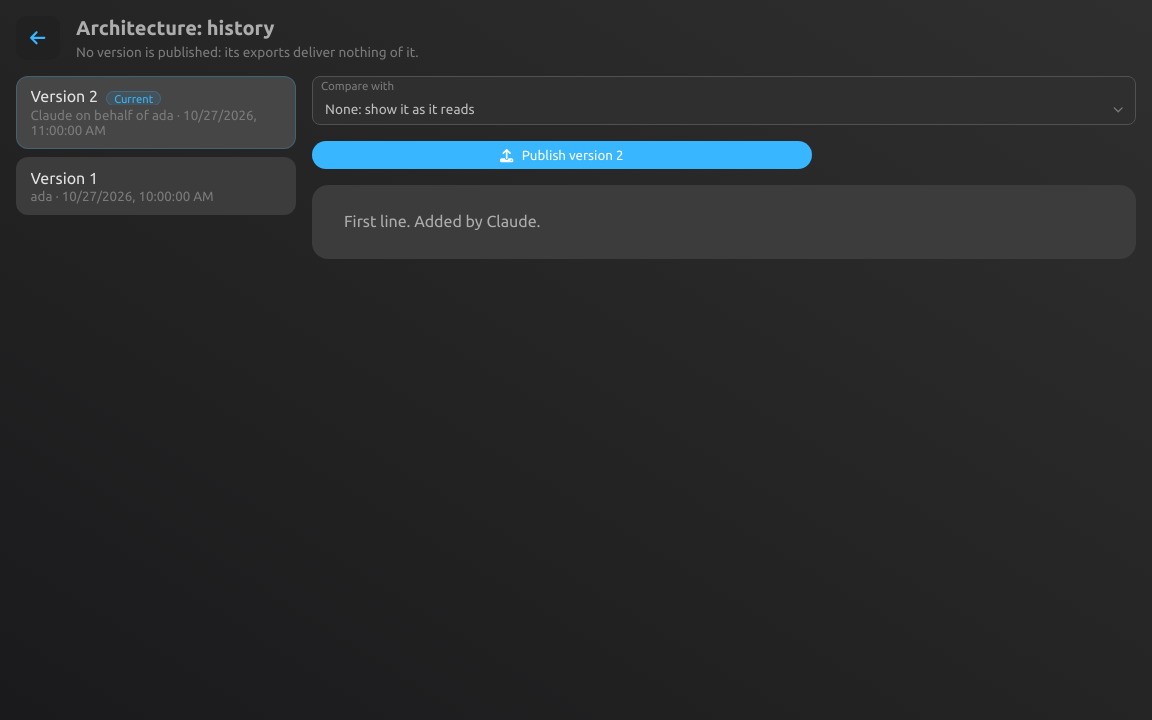
Test: DocumentHistory › shows what changed from another version
The image size is (1152, 720).
Check: the element with test id "markdown-view" is shown, box x1=344 y1=212 x2=541 y2=230
Click the button "None: show it as it reads".
click(400, 109)  # box x1=313 y1=94 x2=1135 y2=124
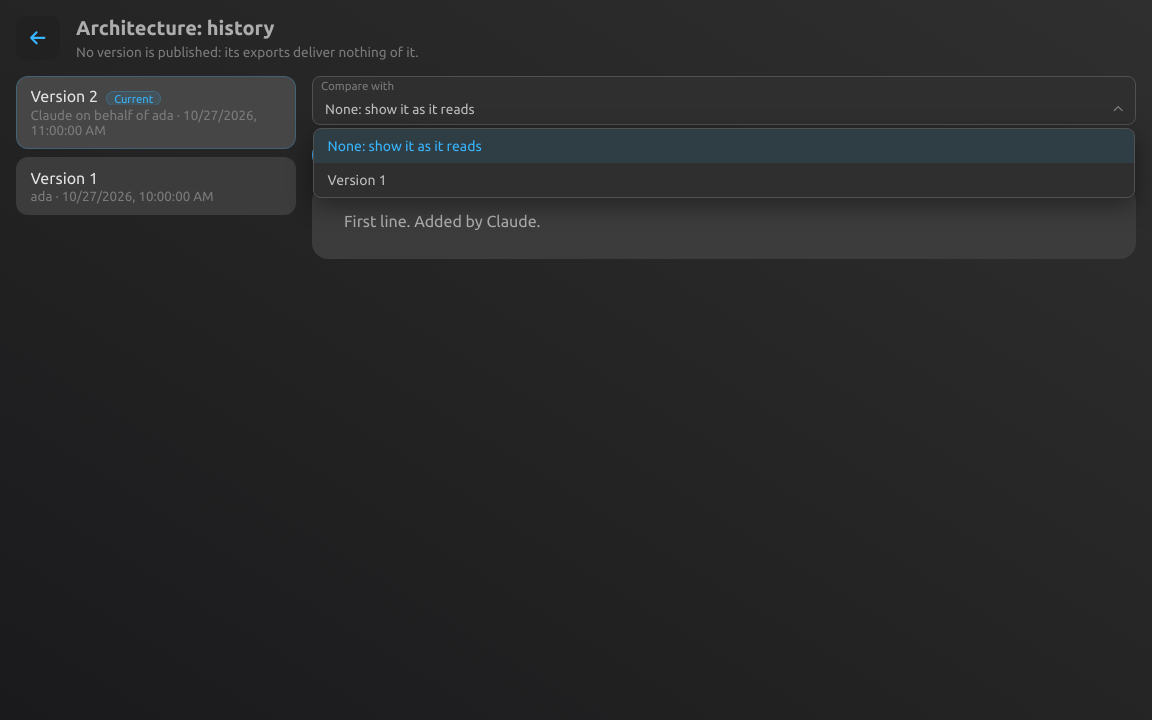
Press the mouse on the list item "Version 1" at (357, 180), box x1=328 y1=172 x2=387 y2=188
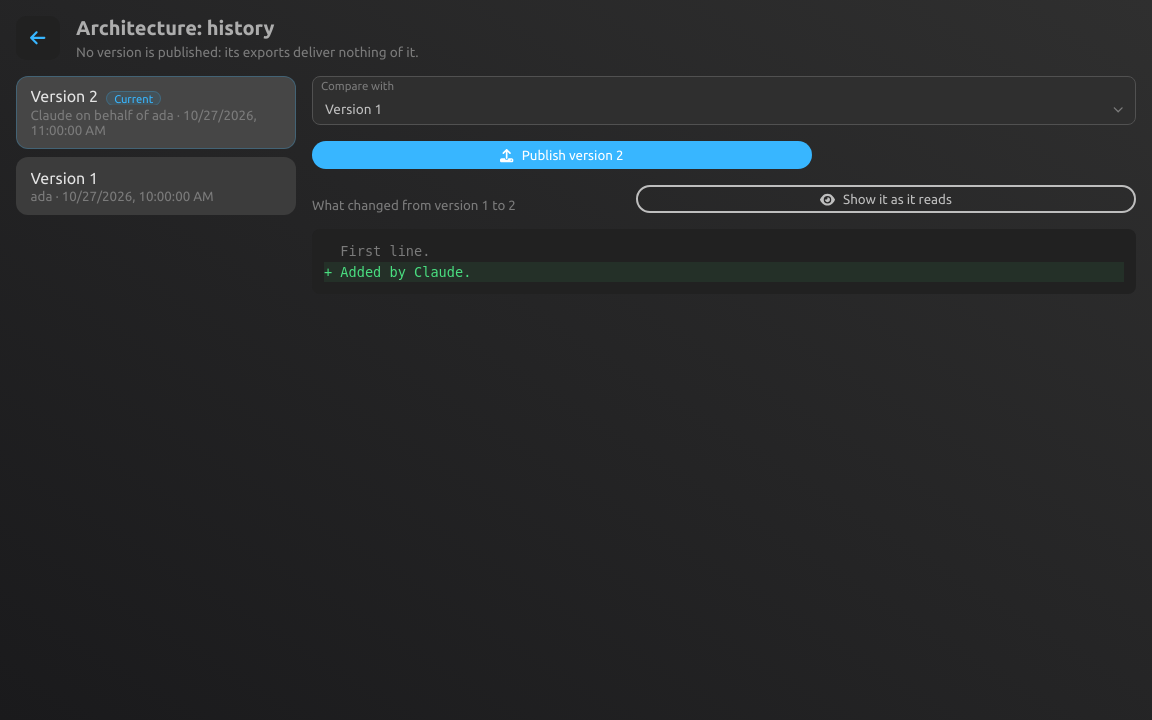
Check: the text with test id "diff-added" shows "Added by Claude.", box x1=324 y1=264 x2=471 y2=280
